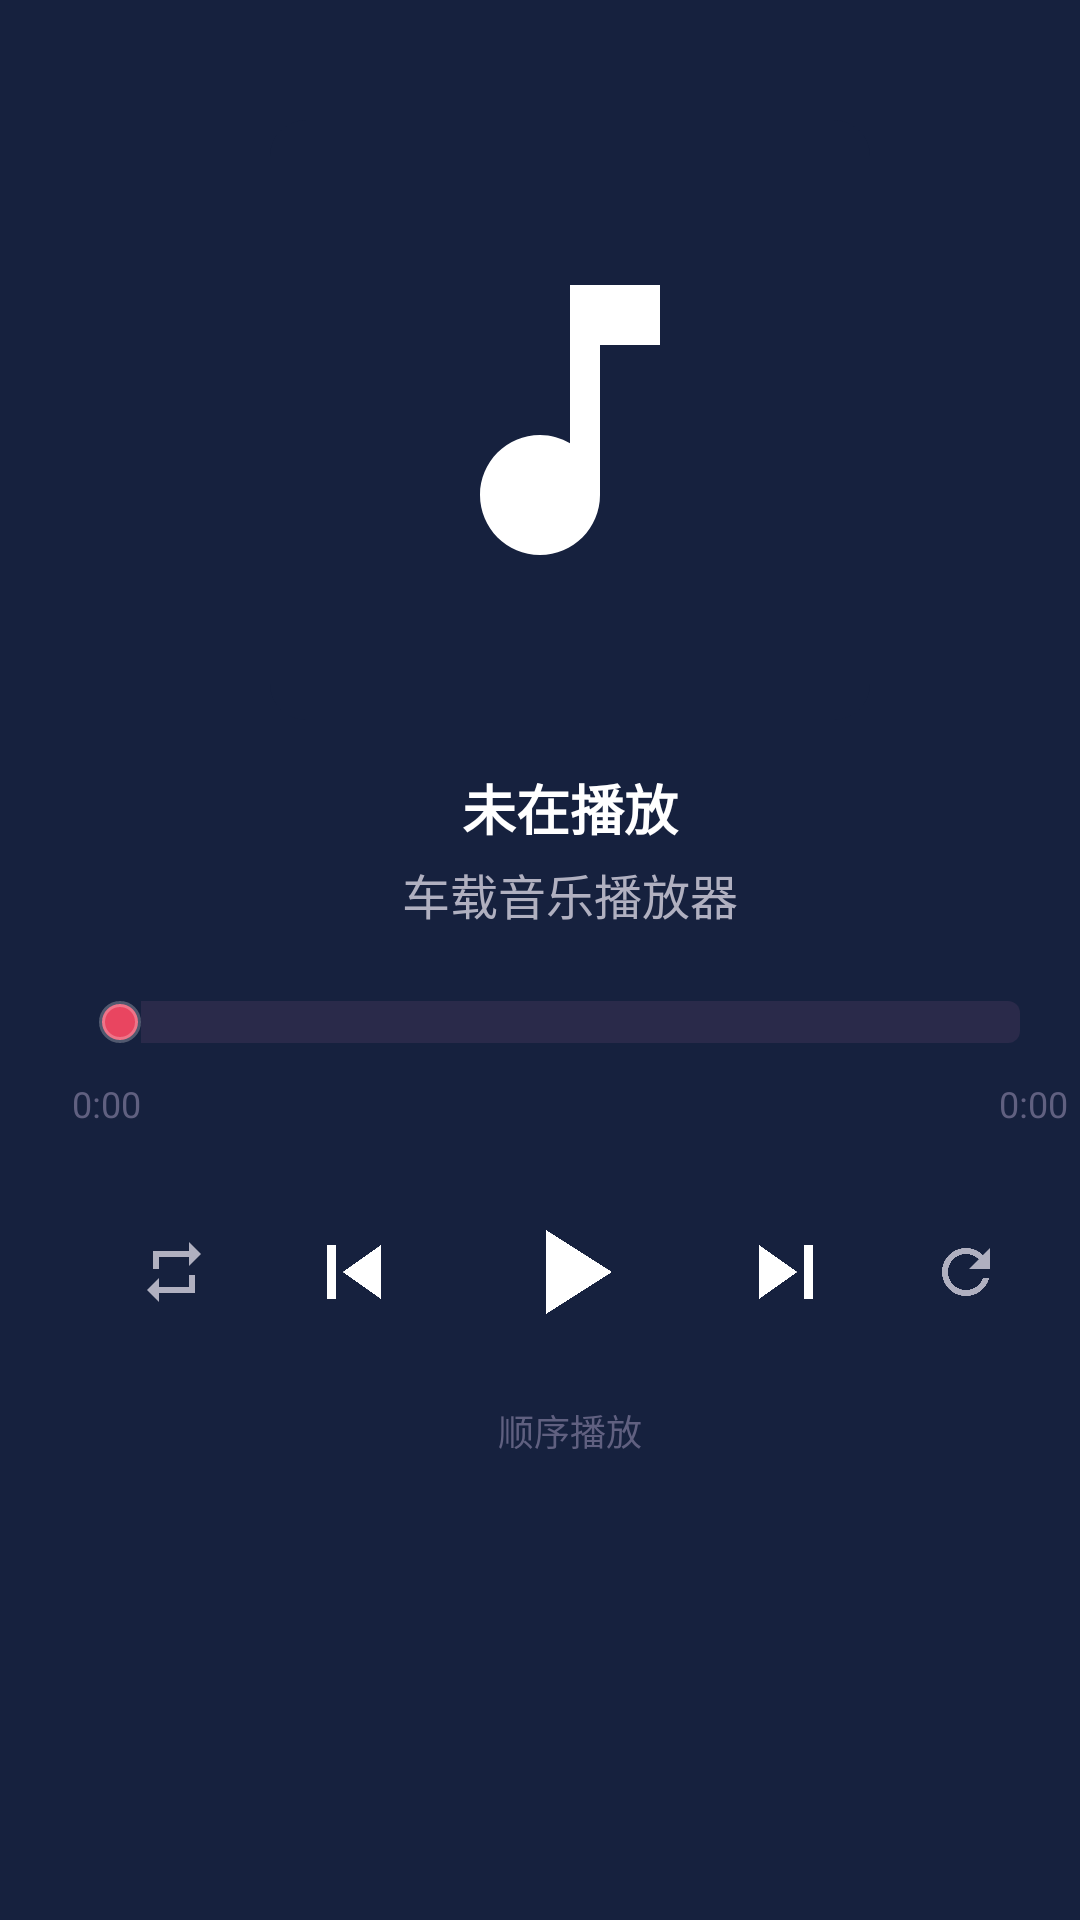

Icon bounding boxes for this 1080 x 1920 phone screenshot, format (x1=x1, y1=y1, x2=x2, y2=y2):
上一首: (x1=327, y1=1245, x2=381, y2=1299)
下一首: (x1=759, y1=1245, x2=813, y2=1299)
专辑封面: (x1=480, y1=285, x2=660, y2=555)
播放模式: (x1=147, y1=1242, x2=201, y2=1302)
重新扫描: (x1=942, y1=1248, x2=990, y2=1296)
